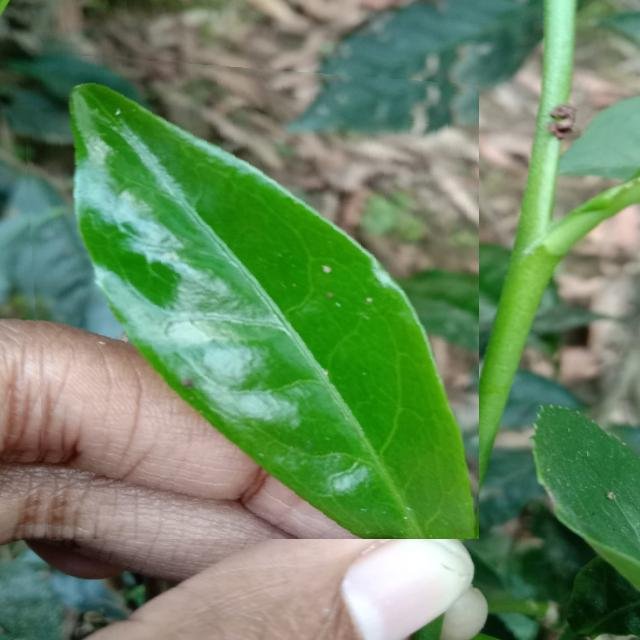Category C(4-7 days): (20, 51, 479, 539)
